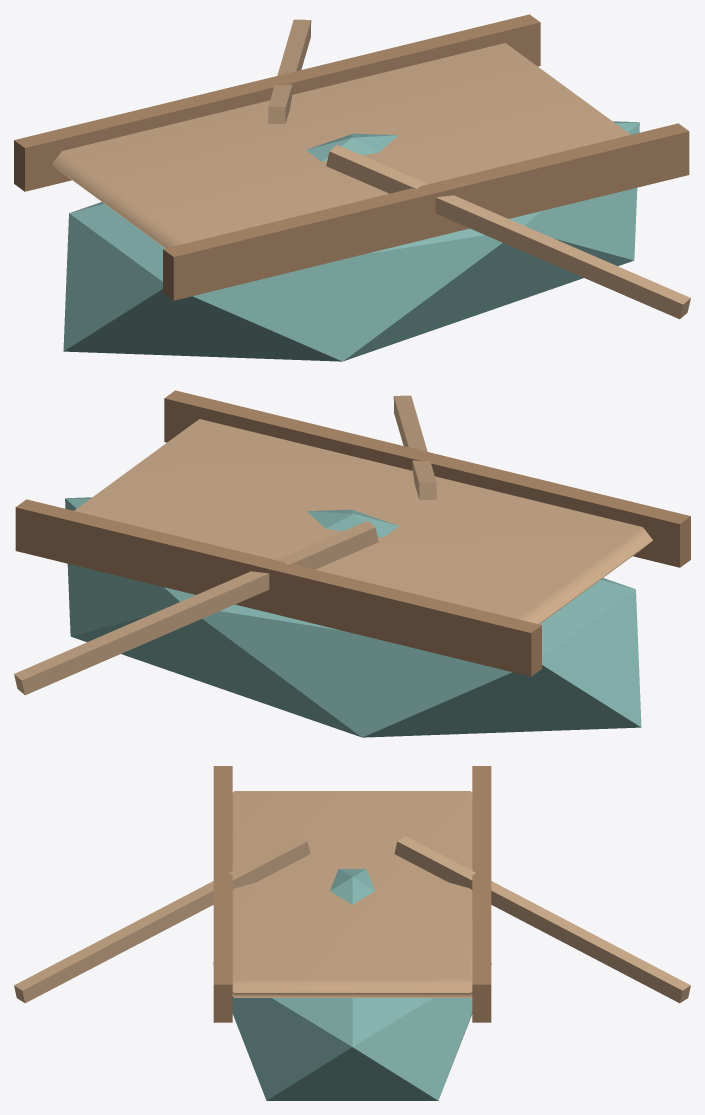
File: woodland-rowboat.glb
The picture shows the model from 3 angles, top to bottom: view 1: azimuth 30°, elevation 25°; view 2: azimuth 150°, elevation 25°; view 3: azimuth 270°, elevation 25°; orthographic projection. The views are drawn at different scales.
Parts seen in each view (by area): view 1: Boat deck, Faceted boat hull, Gunwale, Gunwale.001, Wood oar, Wood oar.001; view 2: Boat deck, Faceted boat hull, Gunwale.001, Gunwale, Wood oar.001, Wood oar; view 3: Boat deck, Faceted boat hull, Wood oar, Wood oar.001, Gunwale, Gunwale.001.
Boxes of the visible parts, bbox=[...] form: Boat deck: bbox=[52, 43, 630, 248]; Faceted boat hull: bbox=[63, 121, 639, 361]; Gunwale: bbox=[163, 123, 689, 300]; Gunwale.001: bbox=[14, 14, 540, 191]; Wood oar: bbox=[326, 145, 690, 319]; Wood oar.001: bbox=[268, 19, 311, 123]; Boat deck: bbox=[74, 419, 652, 624]; Faceted boat hull: bbox=[65, 497, 641, 737]; Gunwale.001: bbox=[15, 499, 541, 676]; Gunwale: bbox=[164, 390, 690, 567]; Wood oar.001: bbox=[14, 521, 378, 695]; Wood oar: bbox=[393, 395, 436, 499]; Boat deck: bbox=[232, 791, 472, 997]; Faceted boat hull: bbox=[213, 869, 491, 1100]; Wood oar: bbox=[14, 836, 310, 1003]; Wood oar.001: bbox=[394, 836, 690, 1003]; Gunwale: bbox=[213, 766, 232, 1022]; Gunwale.001: bbox=[472, 766, 491, 1022].
Bounding box in the file's own units: 3.04 × 1.11 × 3.56.
